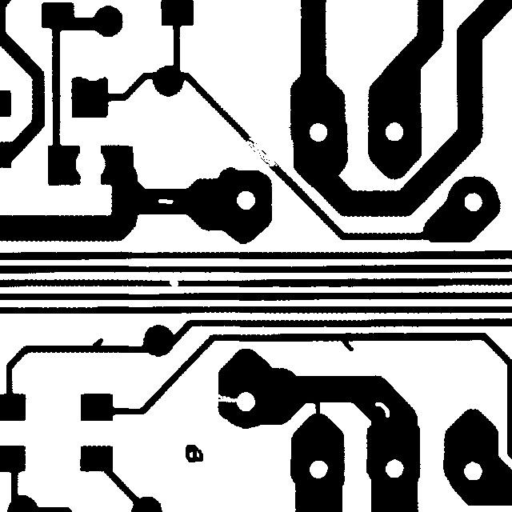copper: (178, 437, 210, 470)
open: (238, 130, 285, 174), (206, 386, 248, 410), (162, 272, 186, 294)
pin-hole: (367, 394, 397, 425), (150, 191, 181, 211)
short: (305, 390, 327, 424)
spur: (334, 332, 361, 358), (85, 330, 110, 357)
